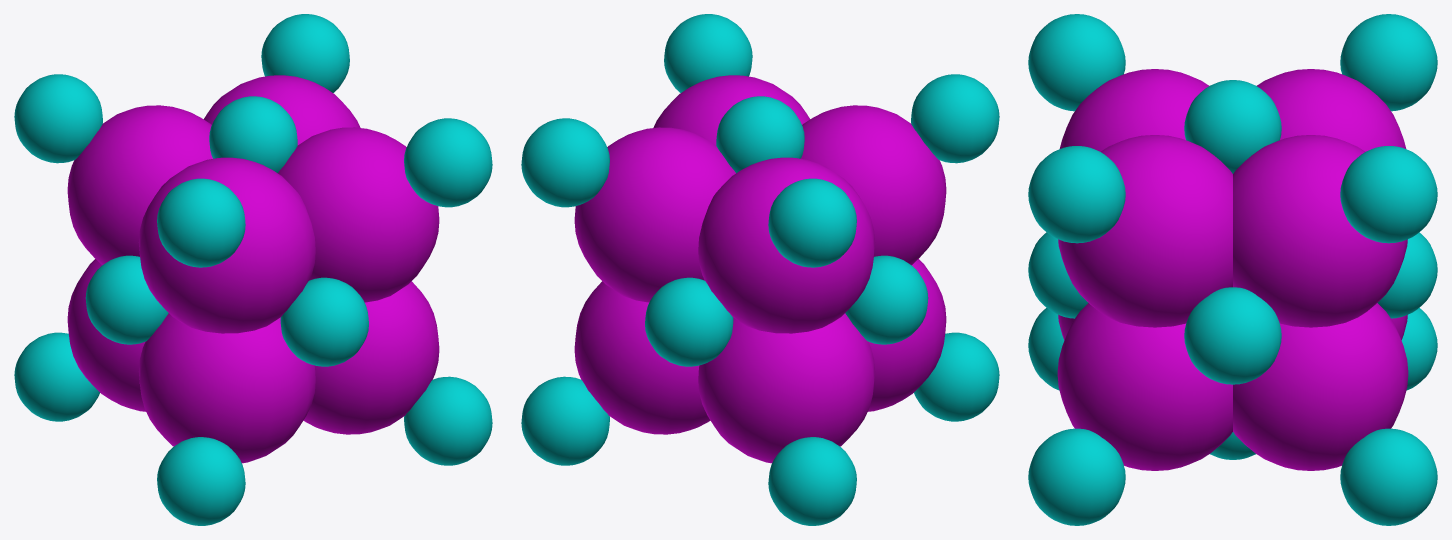
The model's file is fluoritagordo_centrado.glb.
3 views of the same model, side by side, from view 1: azimuth 30°, elevation 25°; view 2: azimuth 150°, elevation 25°; view 3: azimuth 270°, elevation 25° (orthographic). The views are drawn at different scales.
Parts seen in each view (by area): view 1: atomo23; view 2: atomo23; view 3: atomo23.
Part boxes in pixels (x1,y1,x2,y2): atomo23: [14, 14, 492, 525]; atomo23: [521, 14, 999, 525]; atomo23: [1028, 14, 1437, 525].
Bounding box in the file's own units: 1.31 × 1.31 × 1.31.
